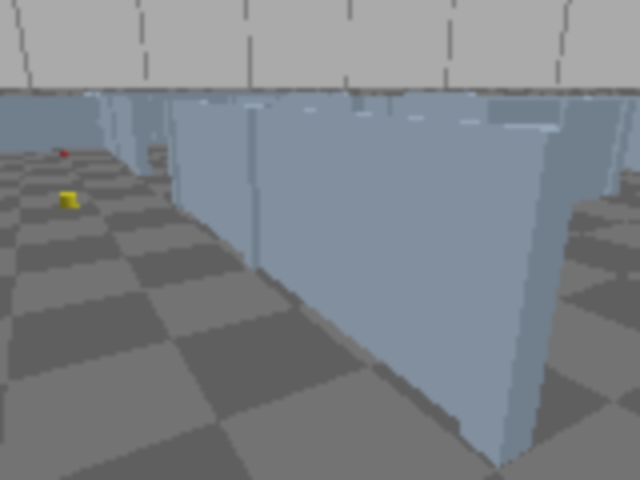puck: (60, 193, 77, 209)
